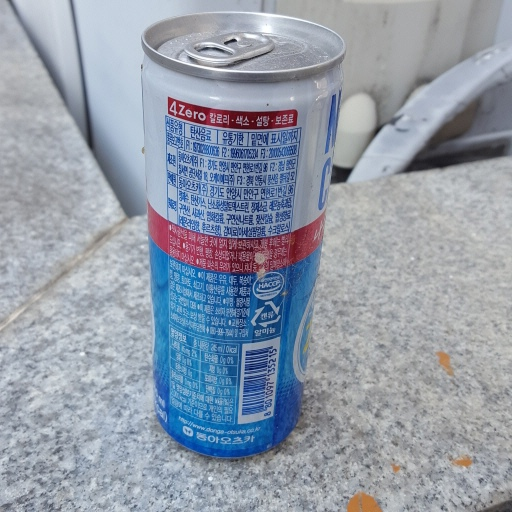Metal_0: (138, 10, 343, 461)
